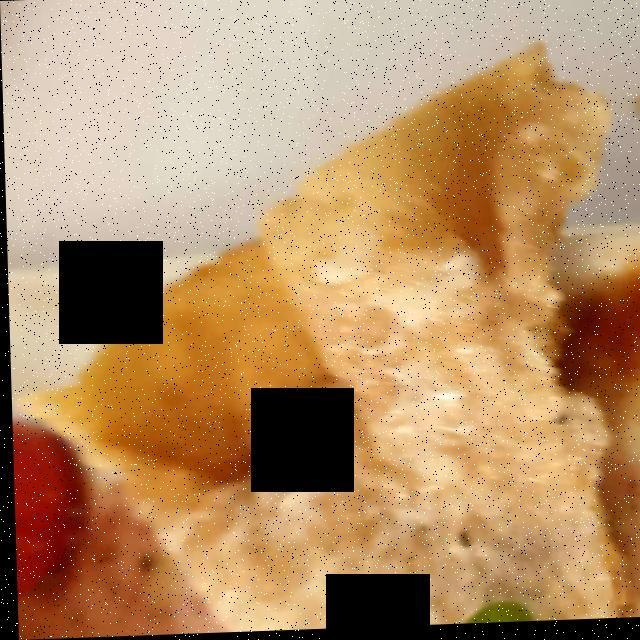bread: (33, 56, 640, 620)
